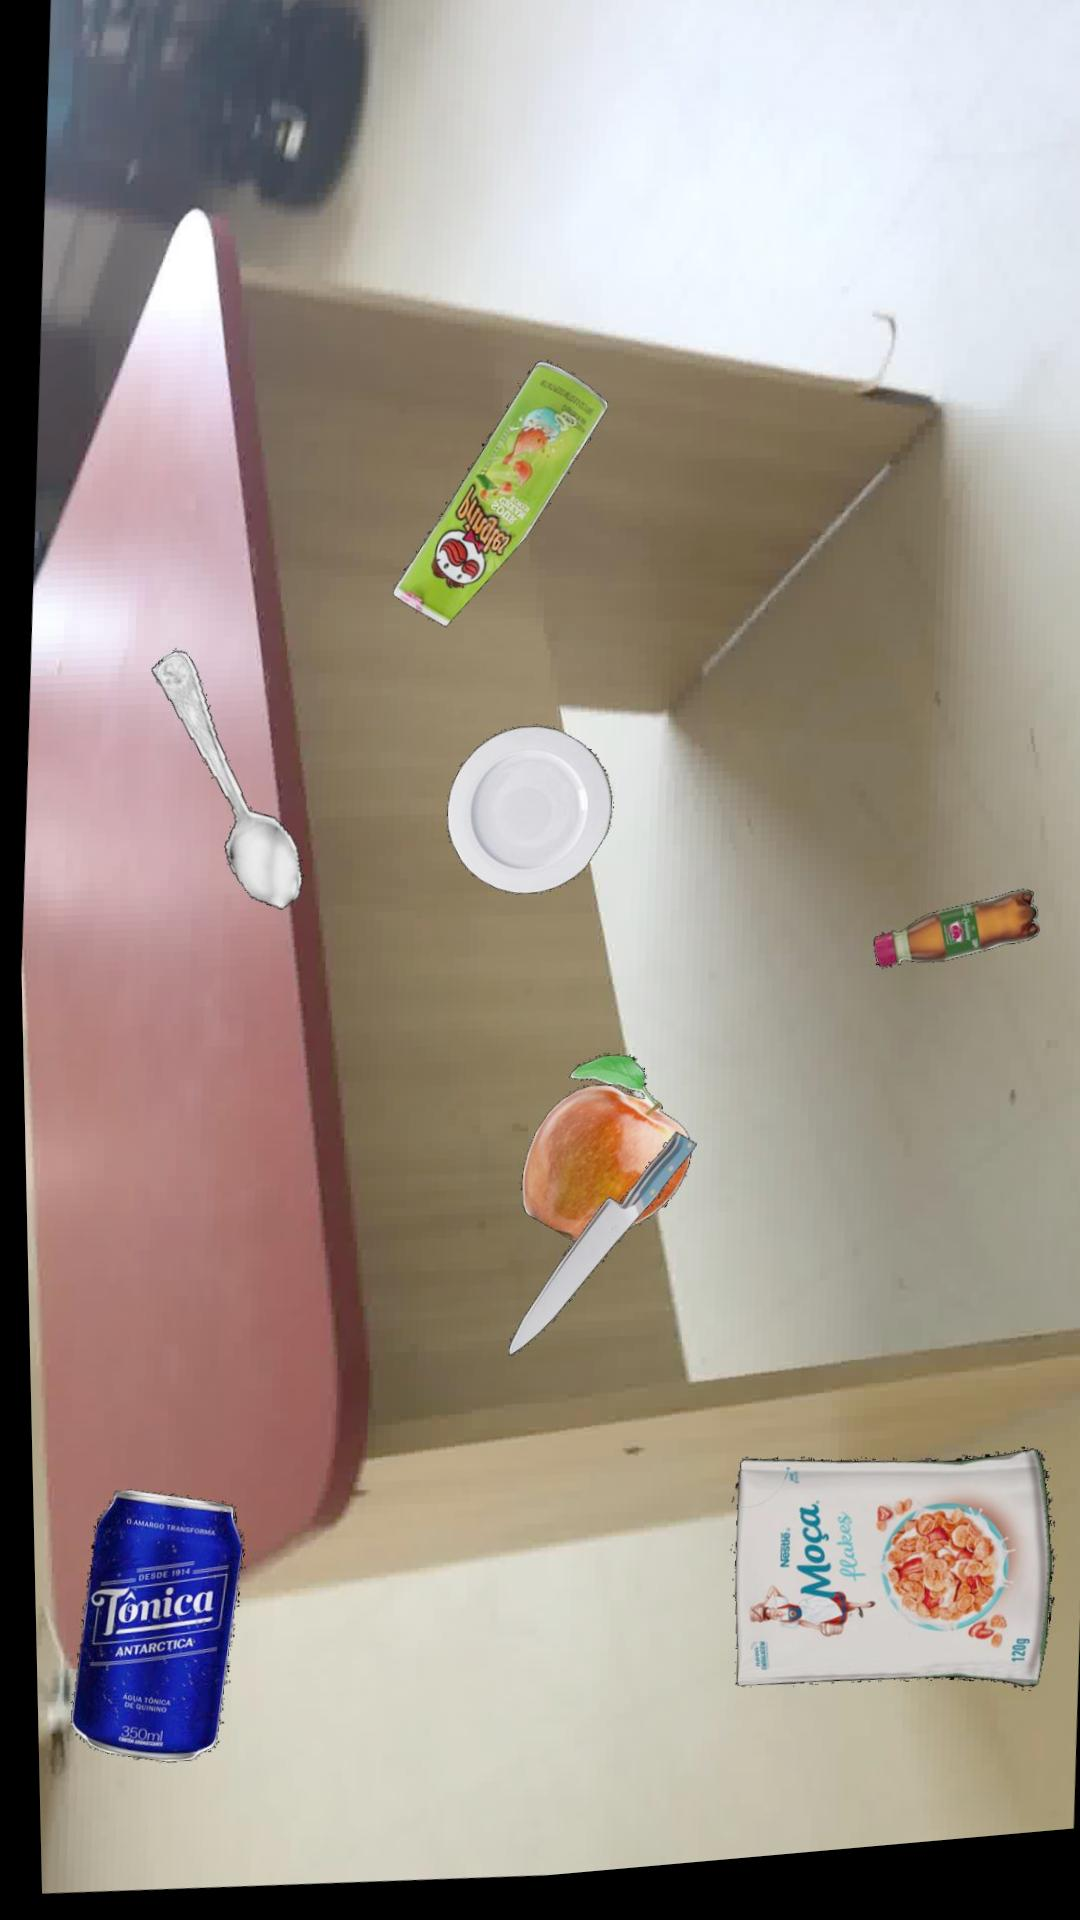apple: (514, 1062, 686, 1249)
corn flakes: (727, 1465, 1047, 1704)
guarana: (869, 905, 1035, 981)
knife: (502, 1141, 691, 1361)
plate: (443, 733, 609, 901)
pringles: (390, 368, 607, 632)
spoon: (149, 651, 299, 911)
tonic: (63, 1489, 237, 1762)
